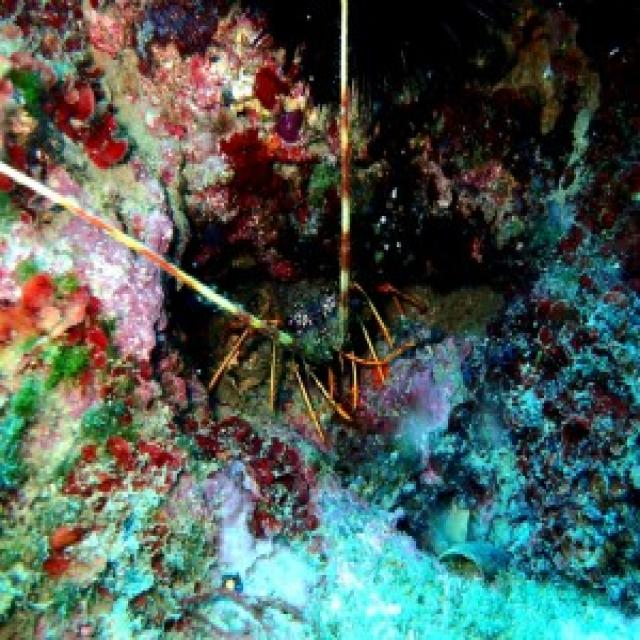lobsters: (96, 92, 509, 479)
